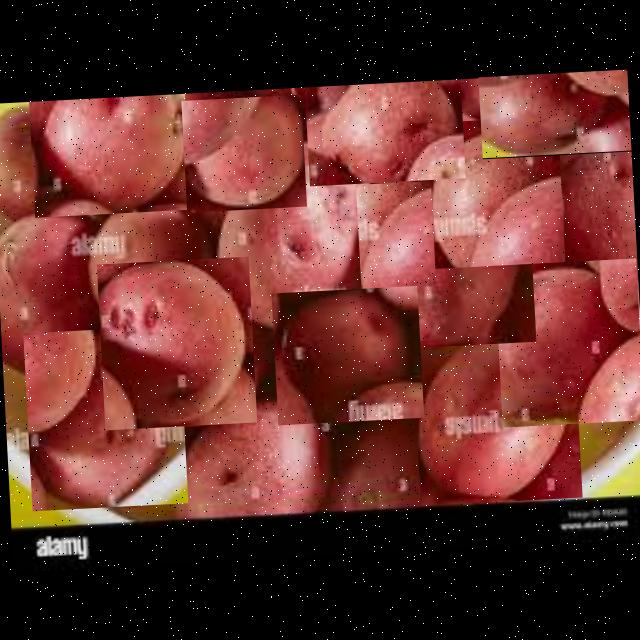Defected potato: (204, 138, 380, 334), (355, 175, 535, 350), (22, 324, 188, 510), (412, 333, 582, 505), (96, 256, 256, 430), (493, 257, 640, 426), (0, 200, 130, 376), (74, 182, 222, 330), (271, 285, 424, 424), (427, 115, 564, 268), (28, 92, 190, 218), (165, 397, 327, 521), (304, 78, 464, 186), (316, 406, 456, 514), (180, 94, 306, 212), (478, 68, 632, 158), (546, 145, 637, 272)
